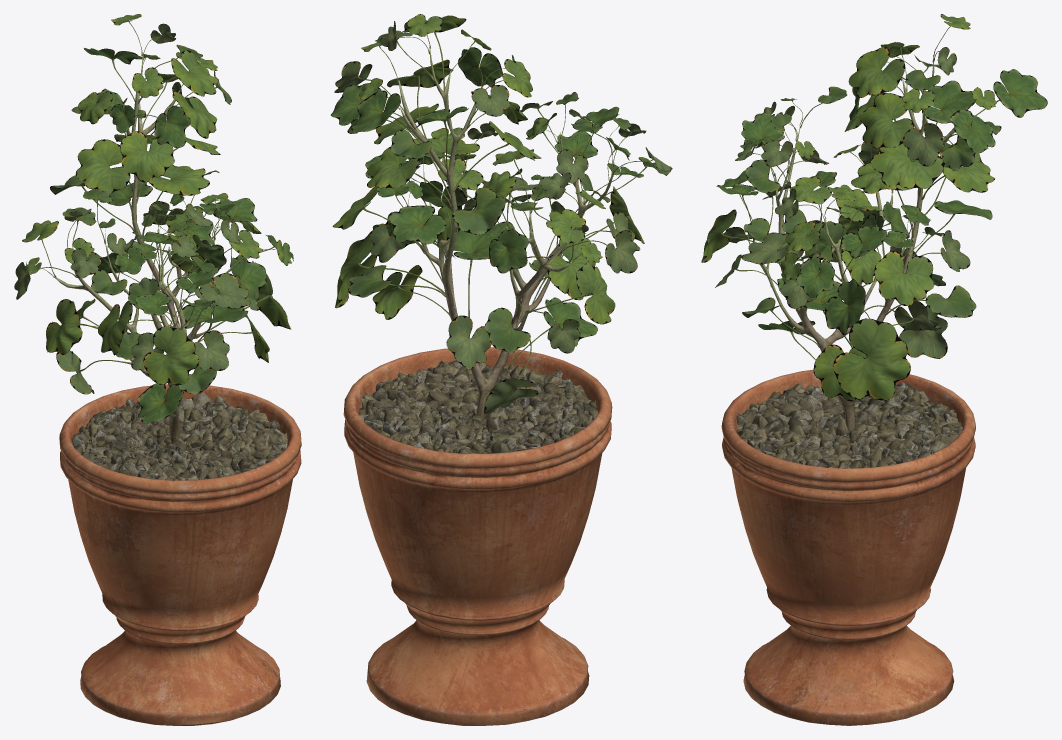
Rendered from potted_plant_01.glb.
The picture shows the model from 3 angles, left to right: view 1: azimuth 30°, elevation 25°; view 2: azimuth 150°, elevation 25°; view 3: azimuth 270°, elevation 25°; orthographic projection. The views are drawn at different scales.
Visible parts, largest first — view 1: potted_plant_01_pot, potted_plant_01_leaves, potted_plant_01_pebbles, potted_plant_01_stem; view 2: potted_plant_01_pot, potted_plant_01_leaves, potted_plant_01_pebbles, potted_plant_01_stem; view 3: potted_plant_01_pot, potted_plant_01_leaves, potted_plant_01_pebbles, potted_plant_01_stem.
Boxes of the visible parts, x1,y1,x2,y2 form: potted_plant_01_pot: (59,384,301,725); potted_plant_01_leaves: (14,14,293,423); potted_plant_01_pebbles: (71,392,287,480); potted_plant_01_stem: (54,54,244,443); potted_plant_01_pot: (343,347,612,725); potted_plant_01_leaves: (331,14,672,414); potted_plant_01_pebbles: (359,360,597,453); potted_plant_01_stem: (398,49,612,420); potted_plant_01_pot: (721,369,975,725); potted_plant_01_leaves: (701,14,1047,401); potted_plant_01_pebbles: (736,382,962,468); potted_plant_01_stem: (752,55,967,431).
Bounding box in the file's own units: 0.5874 × 1.34 × 0.6336.
2 materials, 2 textured.
